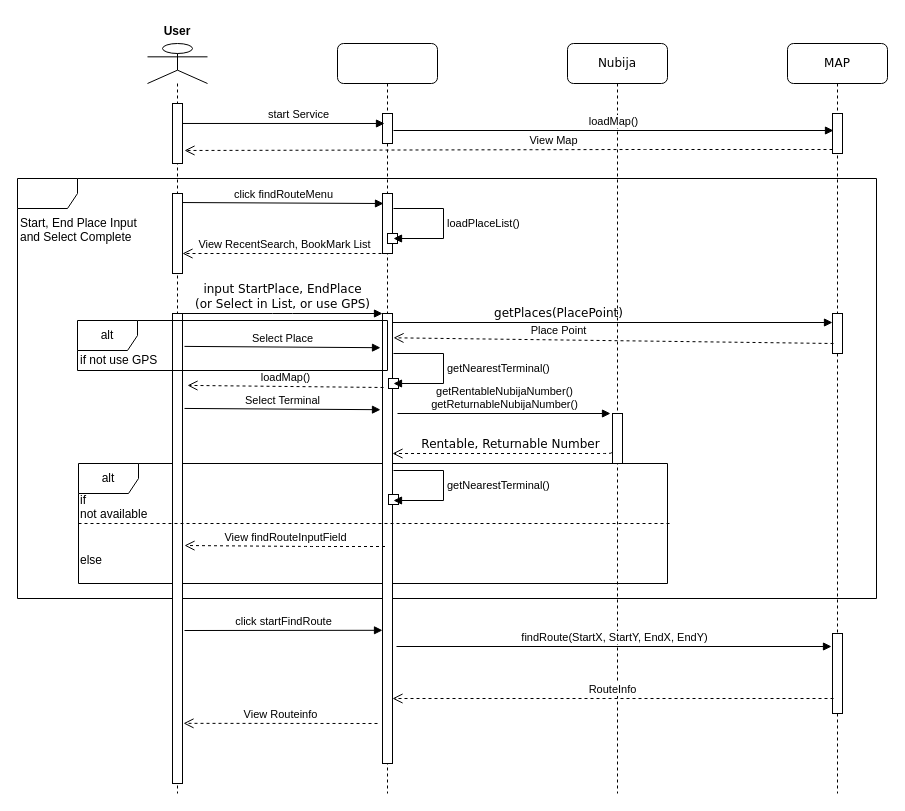
This 905x811 diagram has some shape labels left out. The shapes that lost their labels are listed below. From the top down, each one's box as (x1, y1, x2, y2) in pixels, then its label:
(16, 178, 876, 598): Loop
(336, 42, 438, 794): Browser
